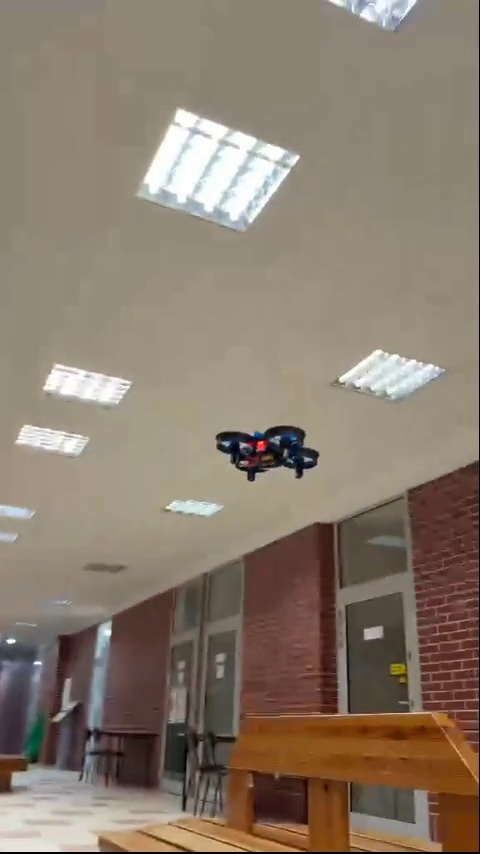drone: (214, 422, 317, 479)
